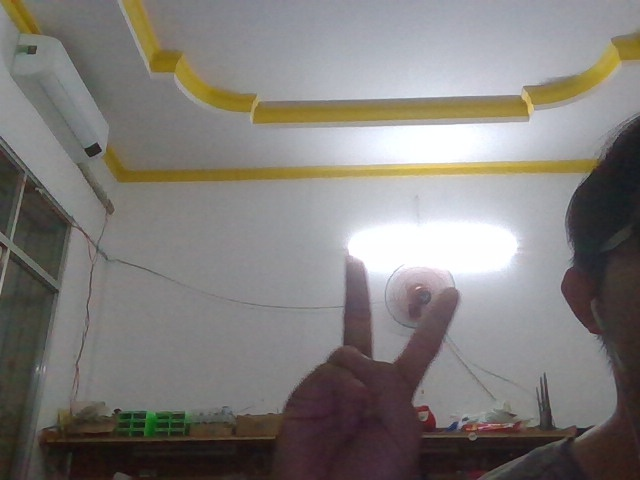hello: (250, 231, 473, 480)
